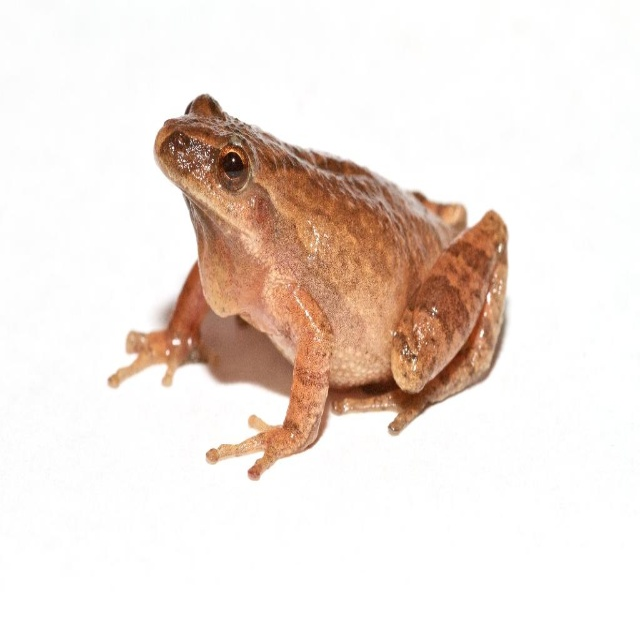Frog: (107, 94, 508, 482)
